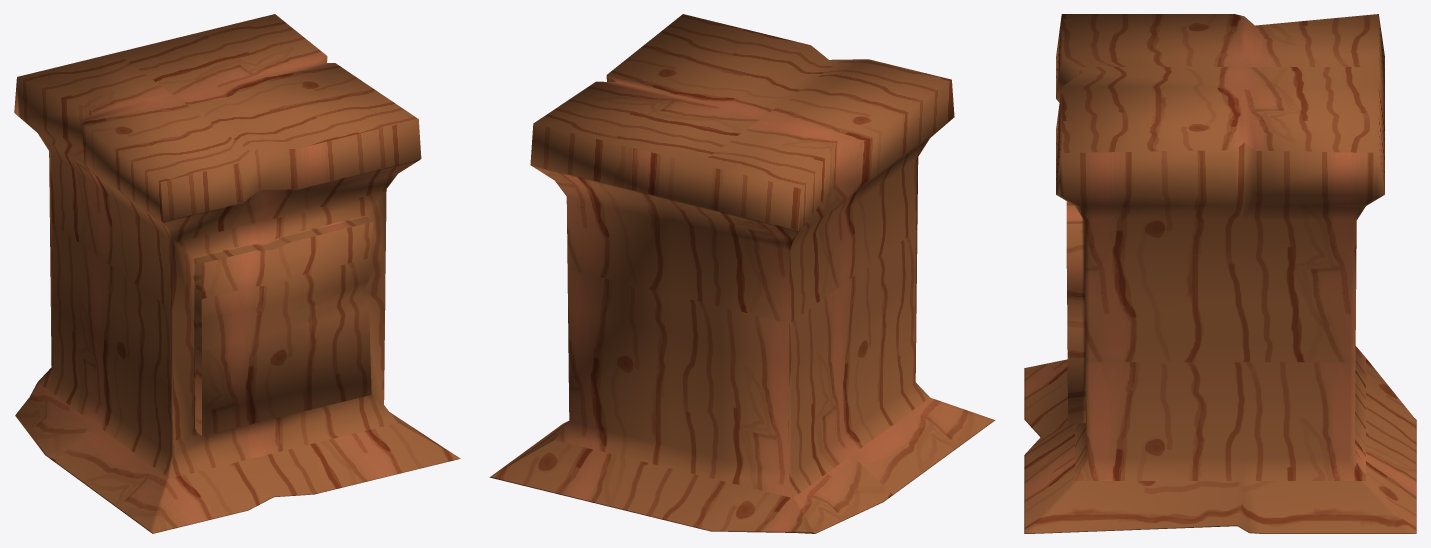
Rendered from Szafeczka.fbx.
The picture shows the model from 3 angles, left to right: view 1: azimuth 30°, elevation 25°; view 2: azimuth 150°, elevation 25°; view 3: azimuth 270°, elevation 25°; orthographic projection. The views are drawn at different scales.
Visible parts, largest first — view 1: Klamka; view 2: Klamka; view 3: Klamka.
Part boxes in pixels (x1=…): Klamka: x1=14, y1=14, x2=460, y2=533; Klamka: x1=489, y1=14, x2=995, y2=533; Klamka: x1=1024, y1=14, x2=1416, y2=533.
Bounding box in the file's own units: 126 × 130 × 126.
